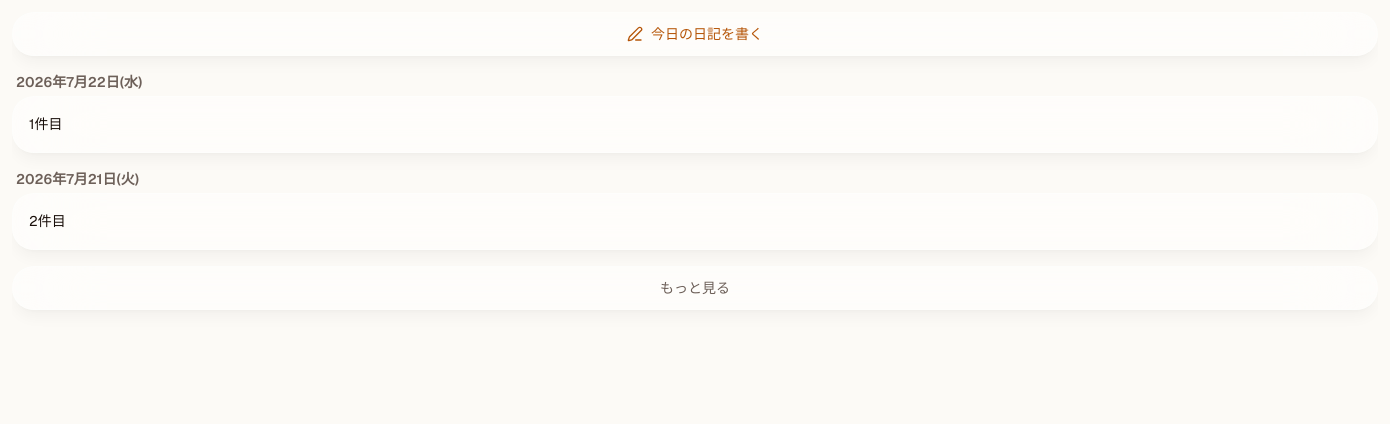
Test: BabyDiaryView のページネーション › 「もっと見る」で受領件数をオフセットに次ページを追記する
This screenshot has width=1390, height=424.
Click the button "もっと見る".
click(695, 288)  # box [12,266,1378,310]
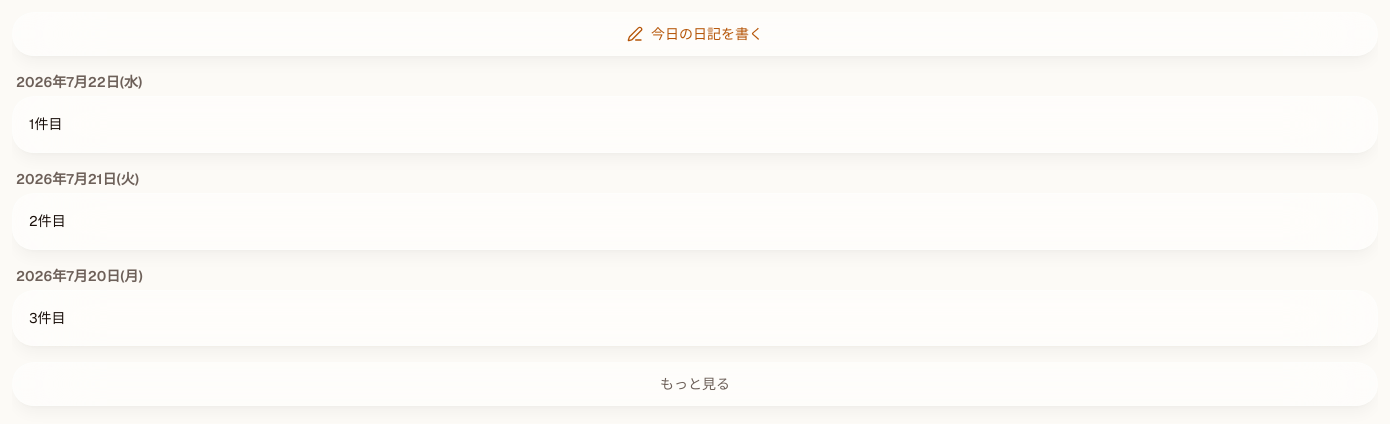
Expected: the text "1件目" is shown, [29,115,62,133]
Expected: the text "3件目" is shown, [29,308,66,326]
